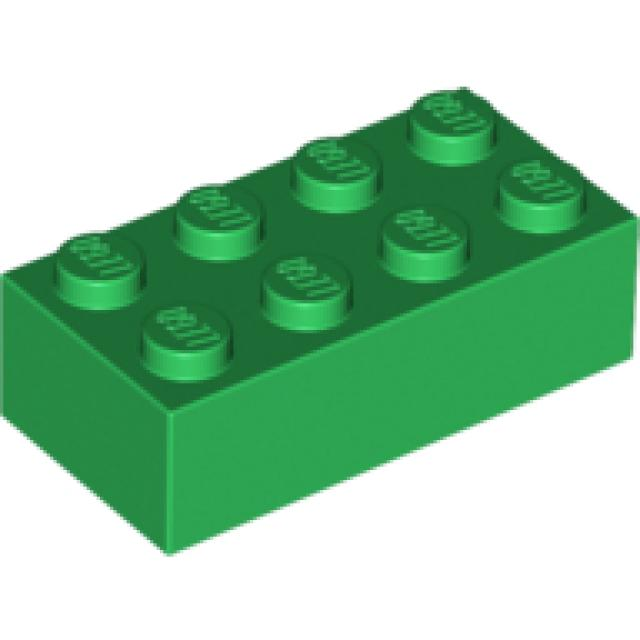Green_Large: (3, 87, 640, 560)
